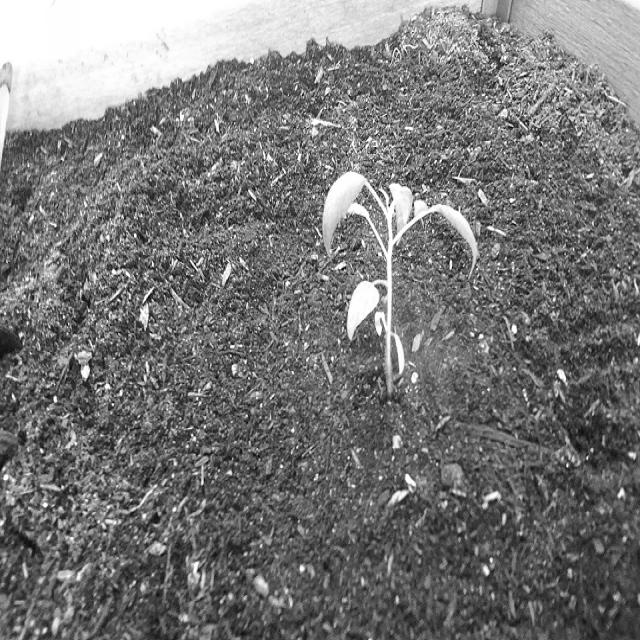Healthy: (317, 162, 484, 407)
